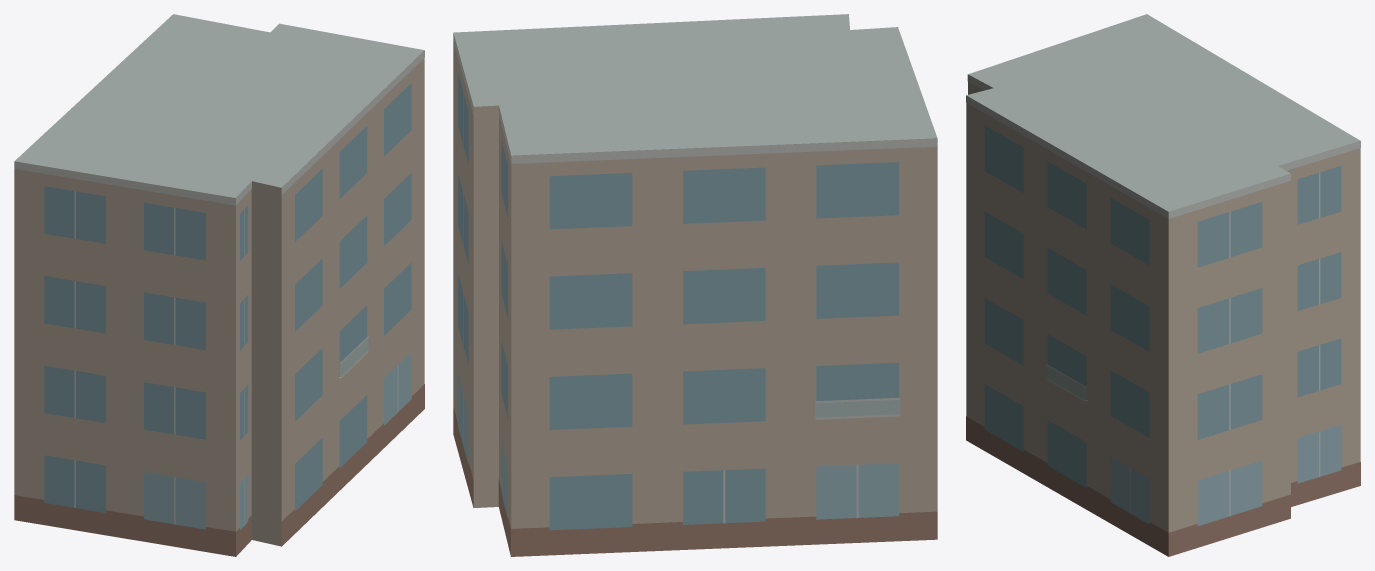
File: survey-upis-32787839.glb
3 views of the same model, side by side, from view 1: azimuth 30°, elevation 25°; view 2: azimuth 150°, elevation 25°; view 3: azimuth 270°, elevation 25° (orthographic). The views are drawn at different scales.
Visible parts, largest first — view 1: survey-upis-32787839.tmp; view 2: survey-upis-32787839.tmp; view 3: survey-upis-32787839.tmp.
Part boxes in pixels (bbox=[...]): survey-upis-32787839.tmp: bbox=[14, 14, 424, 556]; survey-upis-32787839.tmp: bbox=[453, 14, 937, 556]; survey-upis-32787839.tmp: bbox=[966, 14, 1360, 556].
Bounding box in the file's own units: 14.4 × 11.7 × 12.13.
